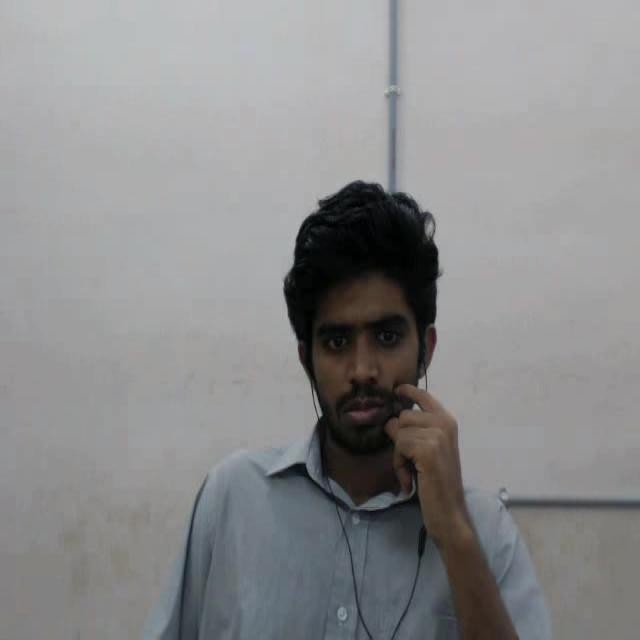Bored: (259, 142, 472, 512)
